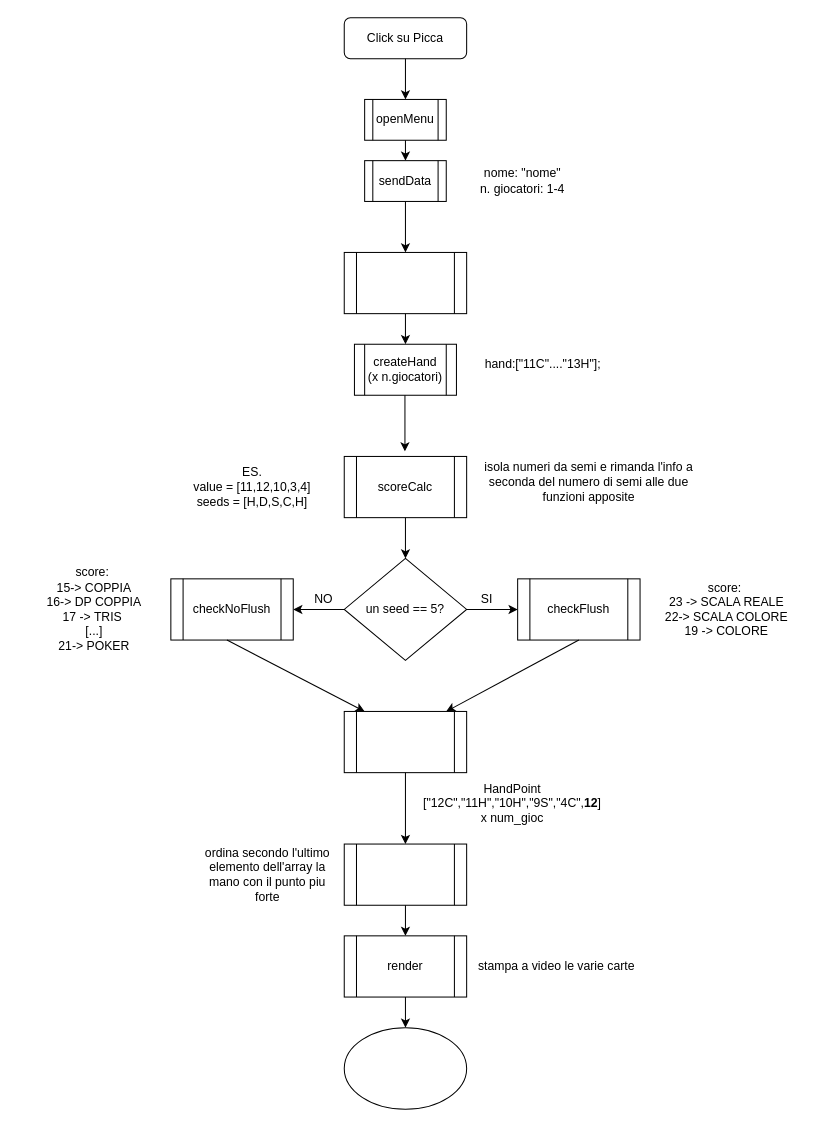
The diagram is 820 pixels wide and 1127 high, and some of its shapes have lost their labels. Here are the shapes that lost their labels. From the top down, the centre of each, then its label:
At point (405, 282): "createGame".
At point (405, 741): "merging".
At point (405, 874): "sorting".
At point (405, 1068): "THE END".
